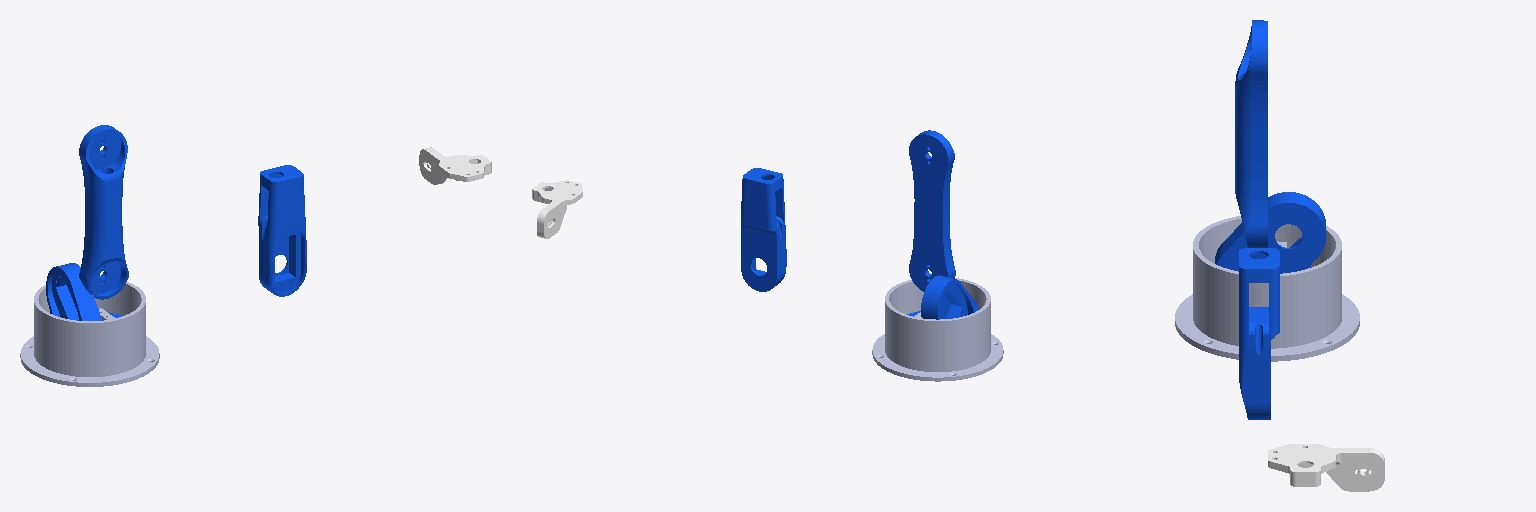
URDF robot description (arm_robot):
<?xml version="1.0"?>
<robot name="arm_robot">

  <!-- ===================== LINK: base ===================== -->
  <link name="base">
    <!-- Inertial approx as a box: 0.16 x 0.16 x 0.04 m, m=0.6 kg -->
    <inertial>
      <origin xyz="0 0 0" rpy="0 0 0"/>
      <mass value="0.6"/>
      <!-- inertia of a rectangular box (w=0.16, h=0.04, d=0.16) -->
      <inertia
        ixx="0.00042" iyy="0.00109" izz="0.00042"
        ixy="0" ixz="0" iyz="0"/>
    </inertial>

    <visual>
      <origin xyz="0 0 0" rpy="0 0 0"/>
      <geometry>
        <mesh filename="package://simulation/arm_robot/assets/base.stl" scale="1 1 1"/>
      </geometry>
      <material name="grey_base"><color rgba="0.8 0.82 0.93 1"/></material>
    </visual>

    <collision>
      <origin xyz="0 0 0.02" rpy="0 0 0"/>
      <geometry>
        <box size="0.16 0.16 0.04"/>
      </geometry>
    </collision>
  </link>

  <!-- ===================== LINK: waist ===================== -->
  <link name="waist">
    <!-- Inertial approx as a cylinder: r=0.035, h=0.06, m=0.35 kg -->
    <inertial>
      <origin xyz="0 0 0.03" rpy="0 0 0"/>
      <mass value="0.35"/>
      <!-- inertia (approx) -->
      <inertia
        ixx="0.00014" iyy="0.00014" izz="0.00009"
        ixy="0" ixz="0" iyz="0"/>
    </inertial>

    <visual>
      <origin xyz="0 0 0" rpy="0 0 0"/>
      <geometry>
        <mesh filename="package://simulation/arm_robot/assets/waist.stl" scale="1 1 1"/>
      </geometry>
      <material name="blue_waist"><color rgba="0.12 0.42 1.0 1"/></material>
    </visual>

    <collision>
      <origin xyz="0 0 0.03" rpy="0 0 0"/>
      <geometry>
        <cylinder radius="0.035" length="0.06"/>
      </geometry>
    </collision>
  </link>

  <!-- ===================== LINK: arm_01 ===================== -->
  <link name="arm_01">
    <!-- Inertial approx as a box: 0.18 x 0.03 x 0.04 m, m=0.20 kg -->
    <inertial>
      <origin xyz="0.09 0 0" rpy="0 0 0"/>
      <mass value="0.20"/>
      <inertia
        ixx="0.00013" iyy="0.00028" izz="0.00023"
        ixy="0" ixz="0" iyz="0"/>
    </inertial>

    <visual>
      <!-- đặt gốc ở đầu gần shoulder; điều chỉnh nếu mesh lệch -->
      <origin xyz="0 0 0" rpy="0 0 0"/>
      <geometry>
        <mesh filename="package://simulation/arm_robot/assets/arm_01.stl" scale="1 1 1"/>
      </geometry>
      <material name="blue_link"><color rgba="0.12 0.42 1.0 1"/></material>
    </visual>

    <collision>
      <origin xyz="0.09 0 0" rpy="0 0 0"/>
      <geometry>
        <box size="0.18 0.03 0.04"/>
      </geometry>
    </collision>
  </link>

  <!-- ===================== LINK: arm_02_v3 (forearm + gripper as visual) ===================== -->
  <link name="arm_02_v3">
    <!-- Inertial approx as a box: 0.16 x 0.03 x 0.035 m, m=0.18 kg -->
    <inertial>
      <origin xyz="0.08 0 0" rpy="0 0 0"/>
      <mass value="0.18"/>
      <inertia
        ixx="0.00009" iyy="0.00019" izz="0.00016"
        ixy="0" ixz="0" iyz="0"/>
    </inertial>

    <visual>
      <origin xyz="0 0 0" rpy="0 0 0"/>
      <geometry>
        <mesh filename="package://simulation/arm_robot/assets/arm_02_v3.stl" scale="1 1 1"/>
      </geometry>
      <material name="blue_link2"><color rgba="0.12 0.42 1.0 1"/></material>
    </visual>

    <!-- Tuỳ chọn: hiển thị gripper như visual phụ (không có DOF) -->
    <visual>
      <origin xyz="0.18 0 0" rpy="0 0 0"/>
      <geometry>
        <mesh filename="package://simulation/arm_robot/assets/gripper_base.stl" scale="1 1 1"/>
      </geometry>
      <material name="white_gripper"><color rgba="1 1 1 1"/></material>
    </visual>

    <collision>
      <origin xyz="0.08 0 0" rpy="0 0 0"/>
      <geometry>
        <box size="0.16 0.03 0.035"/>
      </geometry>
    </collision>
  </link>

  <!-- ===================== JOINTS ===================== -->

  <!-- base -> waist : yaw quanh Z -->
  <joint name="base_yaw" type="revolute">
    <!-- Đặt vị trí trục quay ở tâm đỉnh của base; chỉnh xyz theo lắp ráp thực -->
    <origin xyz="0 0 0.02" rpy="0 0 0"/>
    <parent link="base"/>
    <child link="waist"/>
    <axis xyz="0 0 1"/>
    <limit lower="-3.1416" upper="3.1416" velocity="4.0" effort="6.0"/>
  </joint>

  <!-- waist -> arm_01 : pitch quanh Y -->
  <joint name="shoulder_pitch" type="revolute">
    <!-- vai tại mặt trên của waist; dịch x theo chốt thật (vd. 0.01m) -->
    <origin xyz="0.01 0 0.06" rpy="0 0 0"/>
    <parent link="waist"/>
    <child link="arm_01"/>
    <axis xyz="0 1 0"/>
    <limit lower="-1.5708" upper="1.5708" velocity="3.0" effort="4.0"/>
  </joint>

  <!-- arm_01 -> arm_02_v3 : pitch quanh Y -->
  <joint name="elbow_pitch" type="revolute">
    <!-- khuỷu tay ở cuối arm_01 (0.18m) -->
    <origin xyz="0.18 0 0" rpy="0 0 0"/>
    <parent link="arm_01"/>
    <child link="arm_02_v3"/>
    <axis xyz="0 1 0"/>
    <limit lower="-1.5708" upper="1.5708" velocity="3.0" effort="3.0"/>
  </joint>

</robot>

--- What the picture shows (computed from the rendered views, not written in the file) ---
The picture shows the robot from 3 angles, left to right: view 1: azimuth 30°, elevation 25°; view 2: azimuth 150°, elevation 25°; view 3: azimuth 270°, elevation 25°; orthographic projection.
Model arm_robot with 4 links and 3 joints (3 revolute), rooted at base, posed all joints at 0.
Links seen in each view (by area): view 1: base, arm_02_v3, arm_01, waist; view 2: base, arm_02_v3, arm_01, waist; view 3: base, arm_02_v3, arm_01, waist.
Boxes of the visible links, x1=… form: base: x1=20, y1=282, x2=159, y2=386; arm_02_v3: x1=258, y1=147, x2=491, y2=296; arm_01: x1=79, y1=125, x2=128, y2=299; waist: x1=46, y1=263, x2=121, y2=320; base: x1=872, y1=278, x2=1003, y2=381; arm_02_v3: x1=532, y1=168, x2=786, y2=291; arm_01: x1=909, y1=130, x2=955, y2=291; waist: x1=907, y1=275, x2=978, y2=319; base: x1=1175, y1=216, x2=1359, y2=361; arm_02_v3: x1=1239, y1=248, x2=1384, y2=491; arm_01: x1=1235, y1=20, x2=1267, y2=247; waist: x1=1215, y1=192, x2=1325, y2=273.
Bounding box of the posed robot: 0.475 × 0.1376 × 0.221 m (x, y, z).
5 mesh visuals loaded from 5 distinct referenced files (5 binary STL).